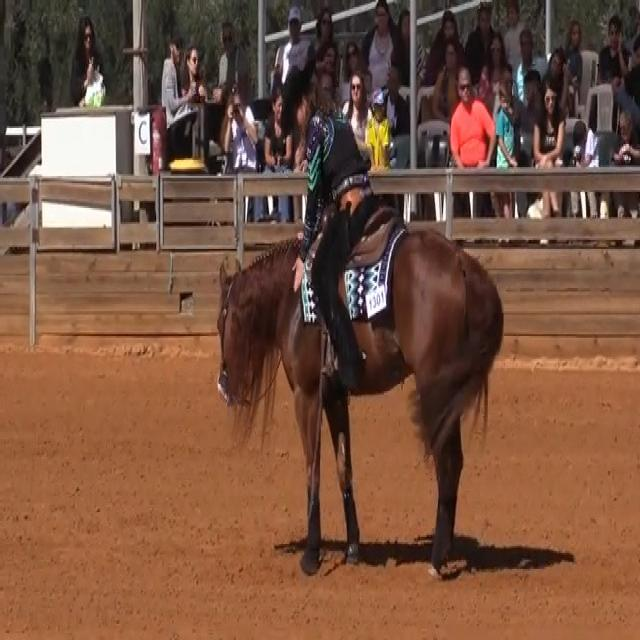horse: (214, 204, 505, 578)
